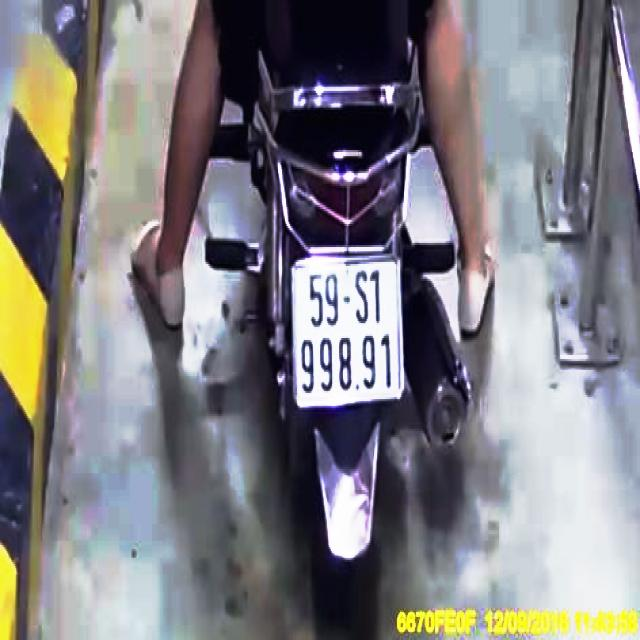license_plate: (293, 257, 405, 411)
